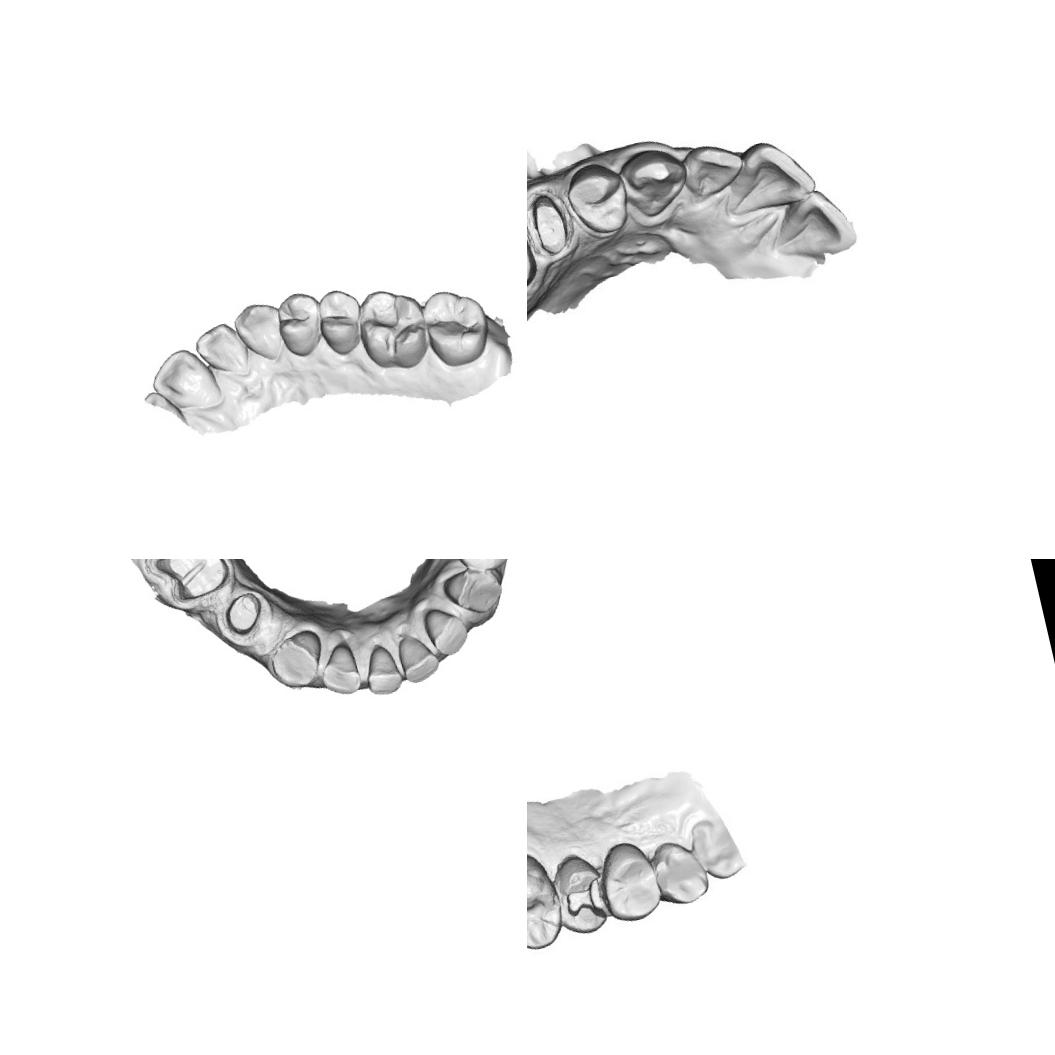canine: (617, 134, 694, 225), (647, 837, 715, 911), (265, 625, 331, 697), (438, 561, 512, 623), (228, 297, 290, 368)
crown: (147, 559, 239, 615), (527, 181, 583, 263), (215, 586, 272, 643)
incisor: (729, 128, 821, 224), (768, 184, 858, 268), (144, 340, 226, 420), (678, 134, 743, 204), (189, 318, 251, 382), (688, 814, 746, 882), (418, 600, 475, 662), (312, 638, 365, 702), (392, 627, 446, 687), (358, 639, 407, 700)
inlay: (560, 873, 610, 928)
molar: (350, 280, 433, 378), (416, 280, 498, 374), (527, 840, 570, 964)
premolar: (596, 839, 667, 931), (564, 158, 634, 242), (310, 282, 371, 360), (270, 287, 329, 362), (445, 559, 520, 579)
